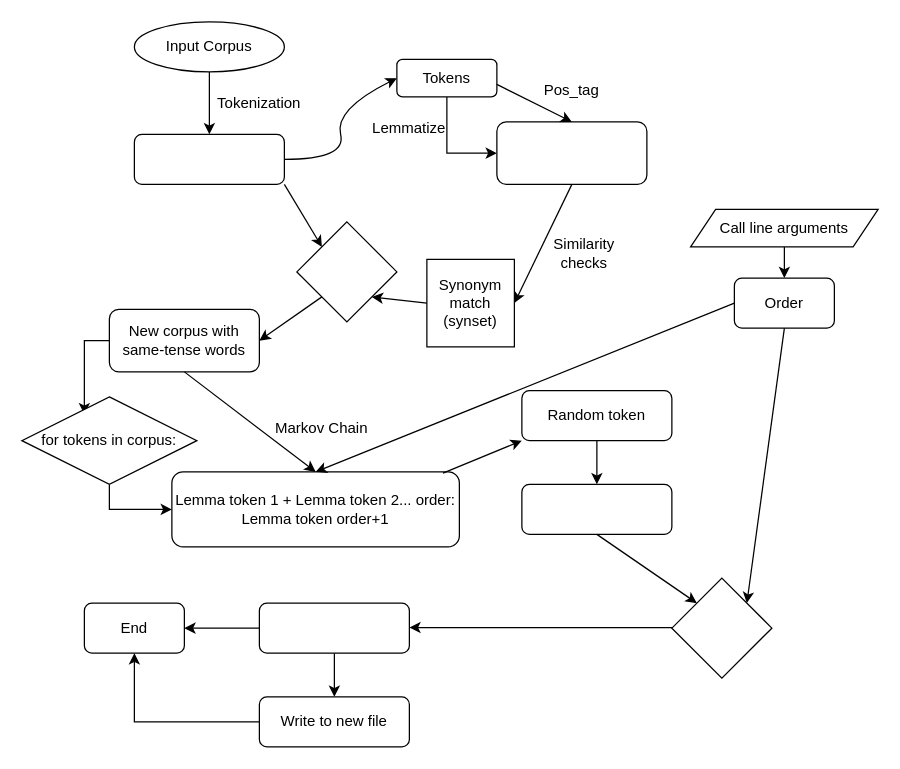
This 900x769 diagram has some shape labels left out. The centre of each missing label's shape, as x and y in pixels:
for order: (x=721, y=627)
Output text: (x=333, y=627)
Part of Speech tagging (pos_tag): (x=571, y=152)
Random value from token key: (x=596, y=508)
Tokenized Corpus: (x=208, y=158)
Tokens in corpus: (x=346, y=271)
